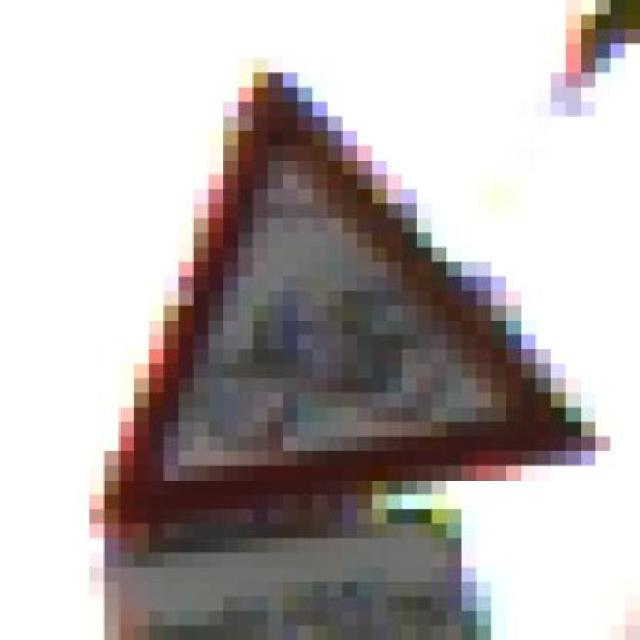CYCLE ROUTE AHEAD WARNING: (90, 58, 596, 524)
